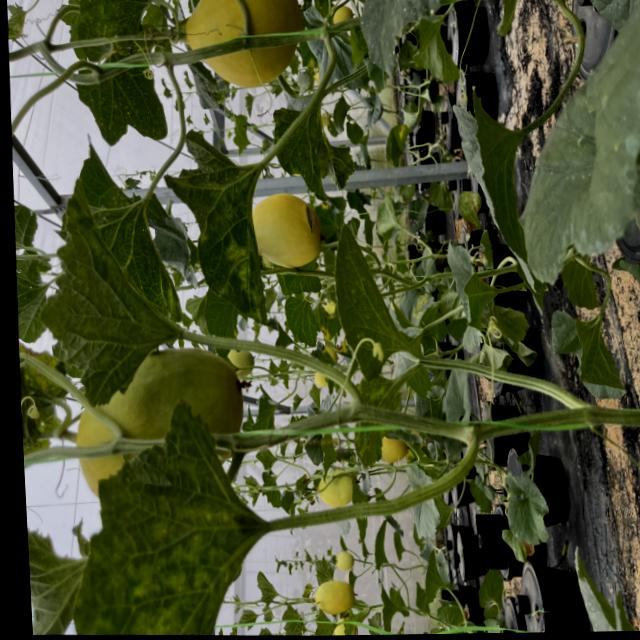alternaria leaf blight: (187, 63, 221, 117)
downy mildew: (52, 394, 276, 639), (27, 139, 195, 416), (191, 163, 271, 323), (326, 238, 405, 378), (268, 99, 336, 185), (27, 517, 73, 635), (68, 0, 153, 42)
healthy: (61, 43, 170, 152), (451, 102, 529, 249), (444, 244, 497, 355), (573, 312, 626, 401), (503, 472, 549, 545), (13, 258, 50, 345), (440, 361, 470, 425), (560, 260, 598, 306), (12, 199, 40, 255), (549, 302, 577, 358)
